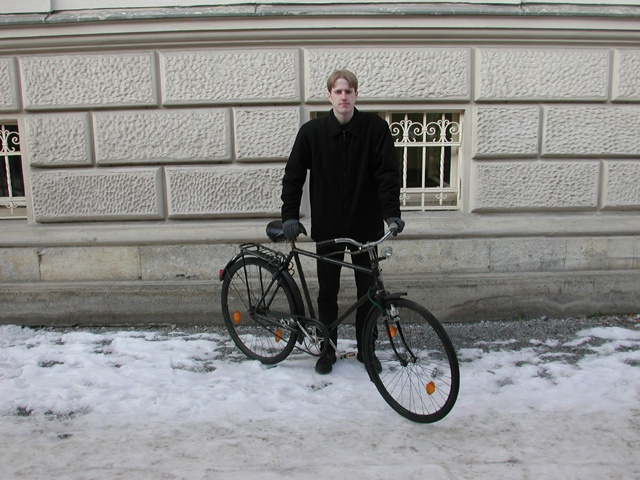person: (278, 71, 403, 375)
